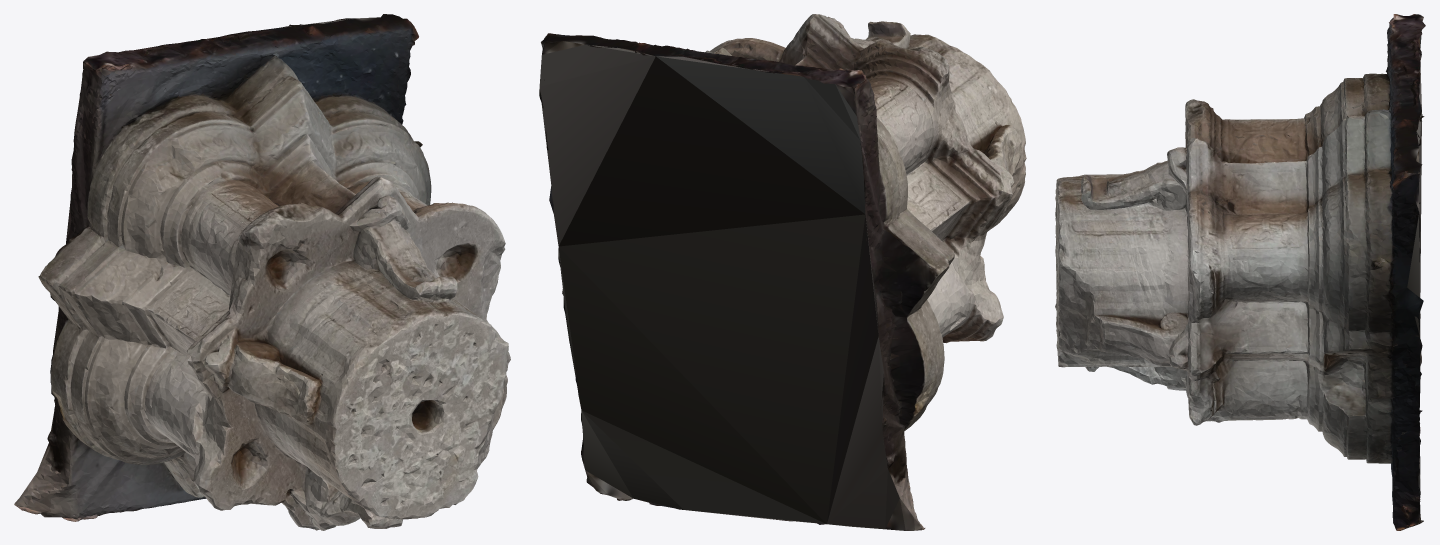
Rendered from column_base.glb.
3 views of the same model, side by side, from view 1: azimuth 30°, elevation 25°; view 2: azimuth 150°, elevation 25°; view 3: azimuth 270°, elevation 25° (orthographic). The views are drawn at different scales.
Parts seen in each view (by area): view 1: default; view 2: default; view 3: default.
Boxes of the visible parts, left/top/right/bottom form: default: left=14, top=14, right=510, bottom=530; default: left=539, top=14, right=1026, bottom=530; default: left=1055, top=14, right=1425, bottom=530.
Bounding box in the file's own units: 22.84 × 26.74 × 21.94.
Materials: 1 (1 with a texture image).
